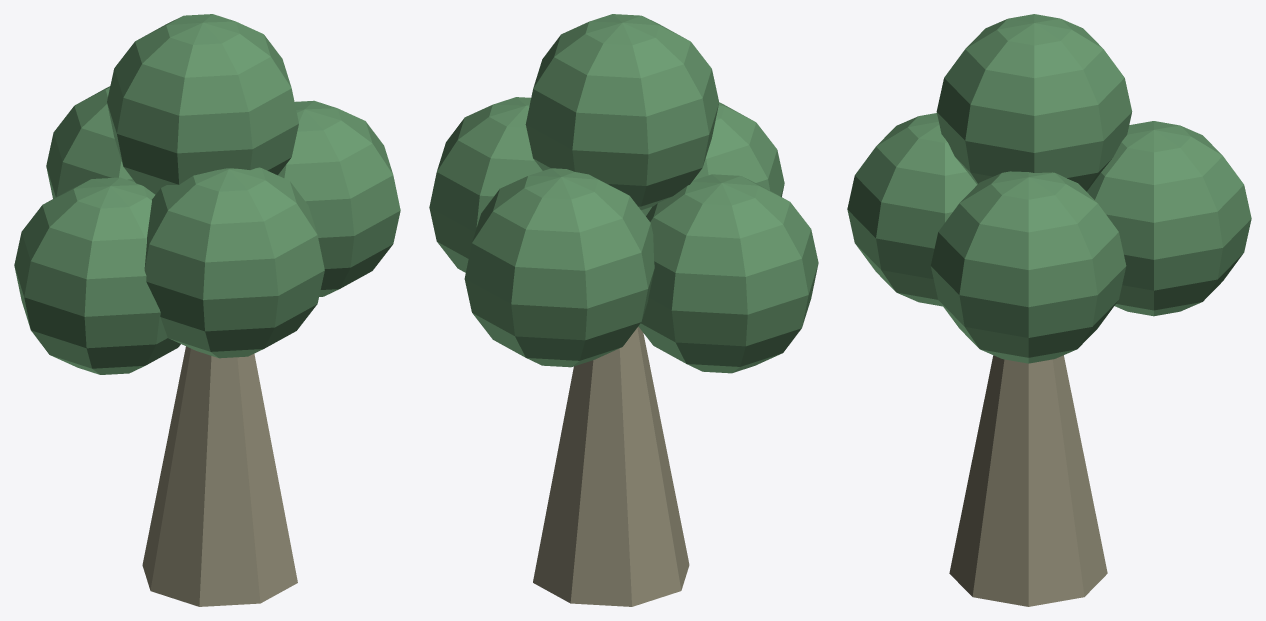
File: Tree.fbx
3 views of the same model, side by side, from view 1: azimuth 30°, elevation 25°; view 2: azimuth 150°, elevation 25°; view 3: azimuth 270°, elevation 25° (orthographic). The views are drawn at different scales.
Visible parts, largest first — view 1: pCone2; view 2: pCone2; view 3: pCone2.
Part boxes in pixels (x1,y1,x2,y2): pCone2: (14,14,400,606); pCone2: (429,14,818,606); pCone2: (847,14,1251,606).
Bounding box in the file's own units: 6.58 × 9.48 × 6.39.
